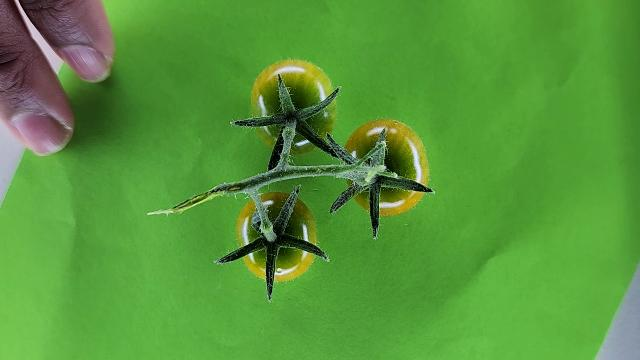Fully Grown: (343, 118, 431, 214), (250, 59, 338, 154), (236, 191, 319, 282)
